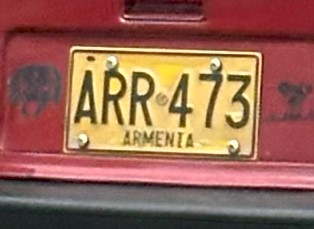number plate: (0, 0, 313, 189), (0, 31, 313, 188), (64, 46, 261, 158)
